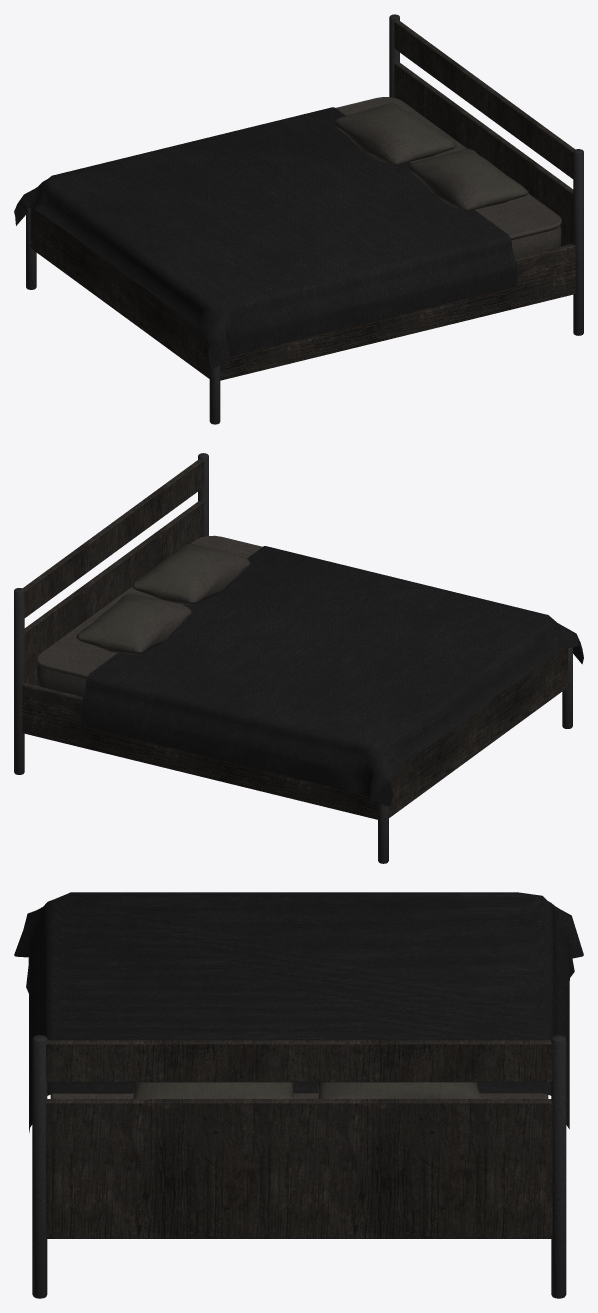
File: bed_4.obj
The picture shows the model from 3 angles, top to bottom: view 1: azimuth 30°, elevation 25°; view 2: azimuth 150°, elevation 25°; view 3: azimuth 270°, elevation 25°; orthographic projection. The views are drawn at different scales.
Visible parts, largest first — view 1: bed_4; view 2: bed_4; view 3: bed_4.
Part boxes in pixels (box(x1,y1,x2,y2)): bed_4: box(14, 14, 583, 424); bed_4: box(14, 453, 583, 863); bed_4: box(14, 892, 583, 1298).
Bounding box in the file's own units: 2.87 × 1.32 × 2.64.
